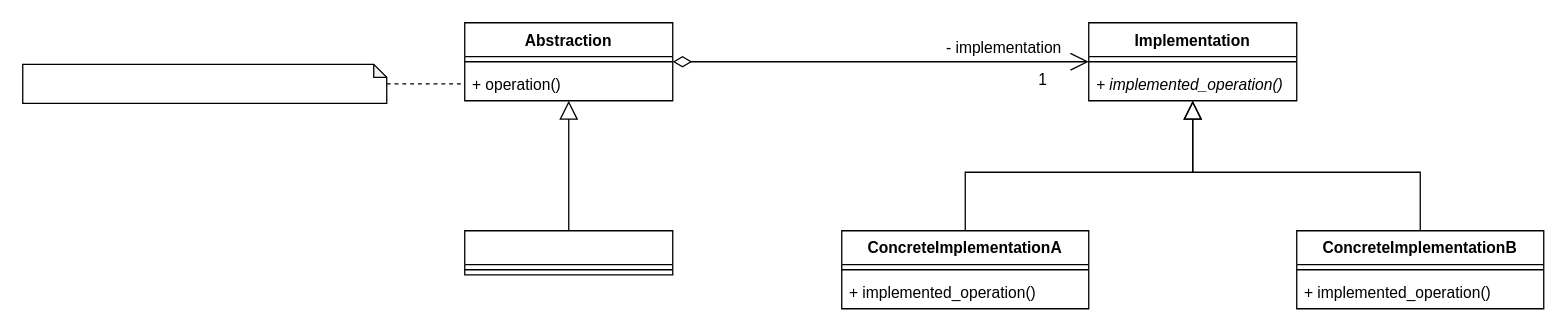
Image size: 1567x335. Some labels were removed from this diagram. The shapes that lost their labels are listed below. From the top down, each one's centre as x and y in pixels, then its label:
At point 204,83: "self.implementation.implemented_operation()".
At point 568,252: "ExtendedAbstraction".
